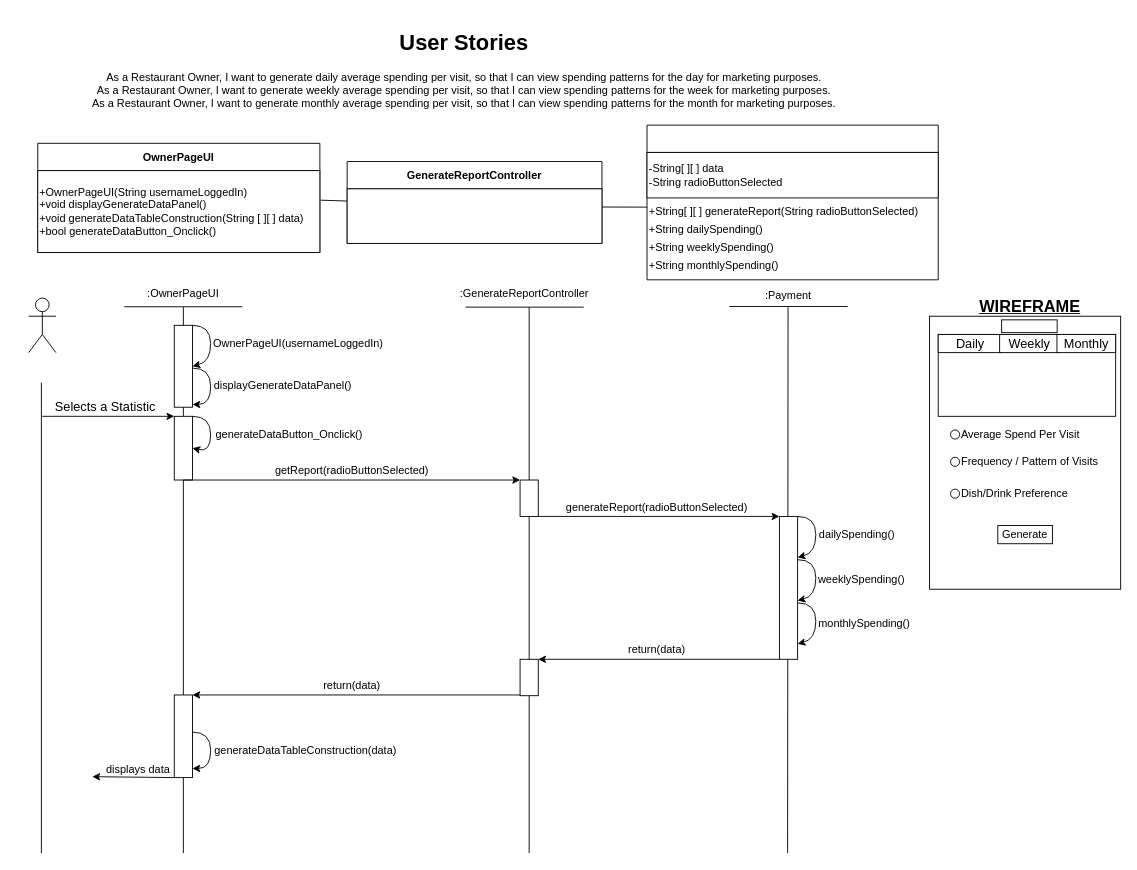
Image size: 1137x870. Some labels were removed from this diagram. Here are the shapes that lost their labels. From the top down, the box of each, then its label:
(346, 188, 602, 243): +String[ ][ ] getReport(String radioButtonSelected)
(646, 124, 938, 280): Payment
(28, 297, 56, 353): Restaurant Owner
(1001, 319, 1057, 333): Log Out
